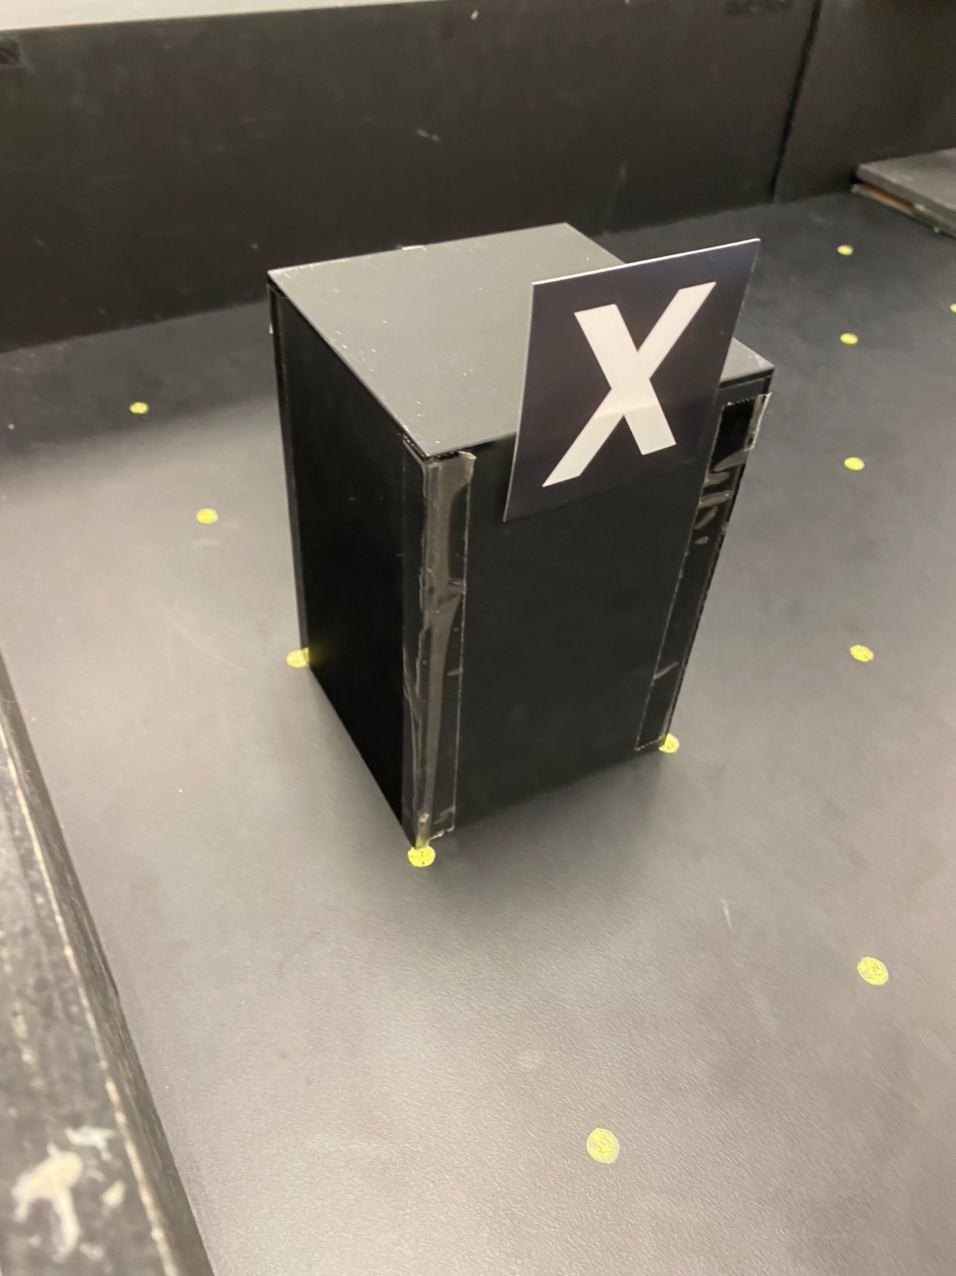x: (544, 283, 711, 480)
